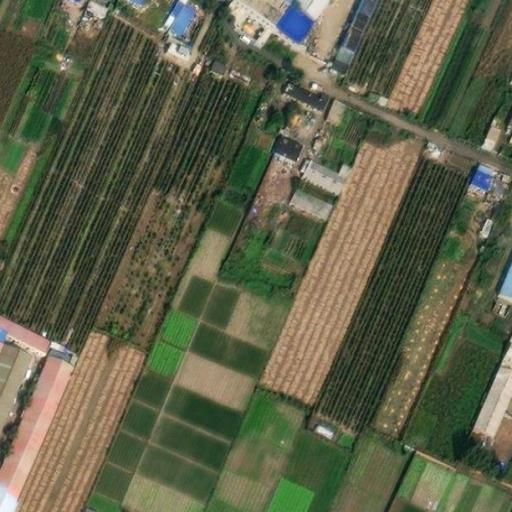building: (337, 0, 377, 63), (301, 154, 354, 188), (280, 72, 332, 103), (277, 0, 323, 34), (469, 155, 512, 191), (289, 180, 332, 212), (162, 0, 199, 28), (476, 117, 504, 151), (160, 37, 193, 63), (271, 127, 302, 154), (496, 249, 511, 298), (323, 91, 347, 119), (474, 213, 497, 238), (204, 55, 228, 77), (86, 0, 112, 13)
